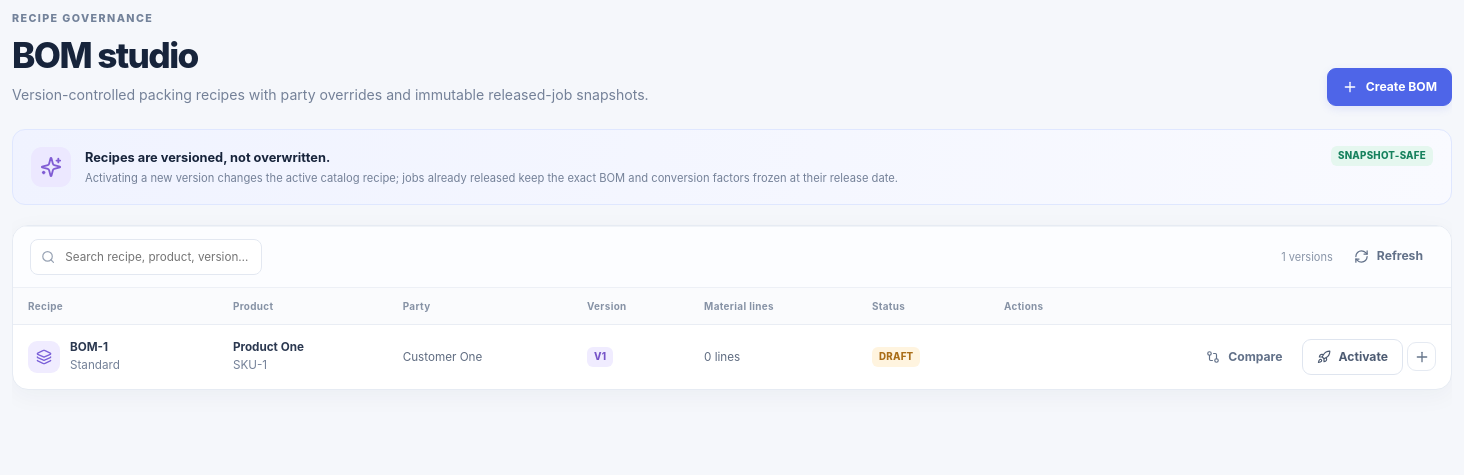
it: Phase 8 transactional operator workflows (MSW + React) › activates a BOM version through the backend and never mutates BOM tables directly
Expected: the text "BOM-1" is shown, [70,340,108,354]
Step 1. Click the button "Activate" → (1352, 357), box [1302,339,1403,375]
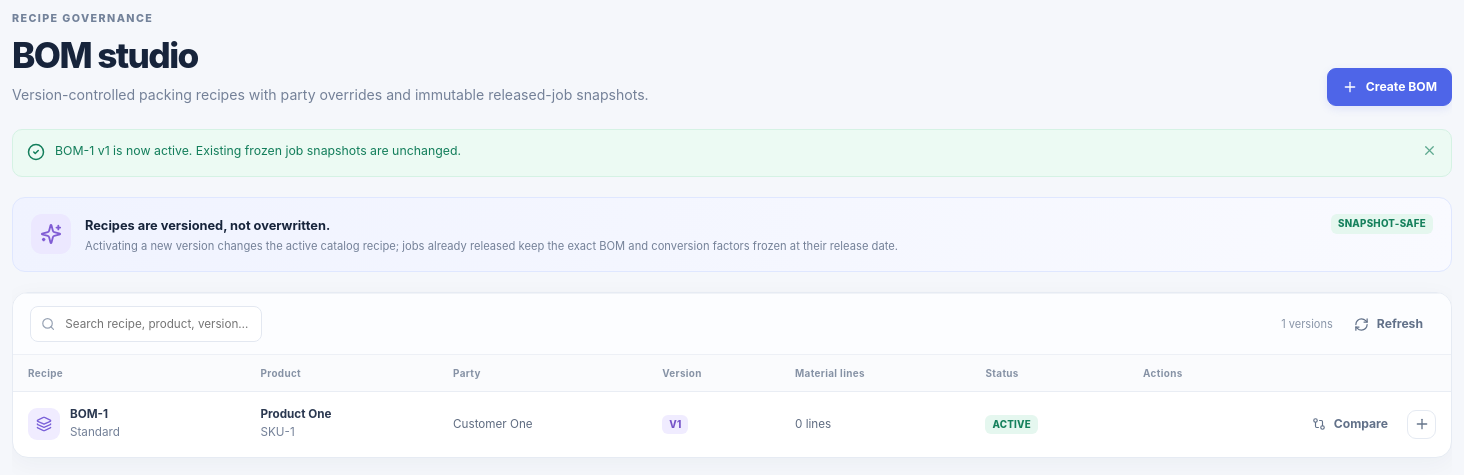
Now the text "BOM-1 v1 is now active" is shown, box [55,143,461,158]
